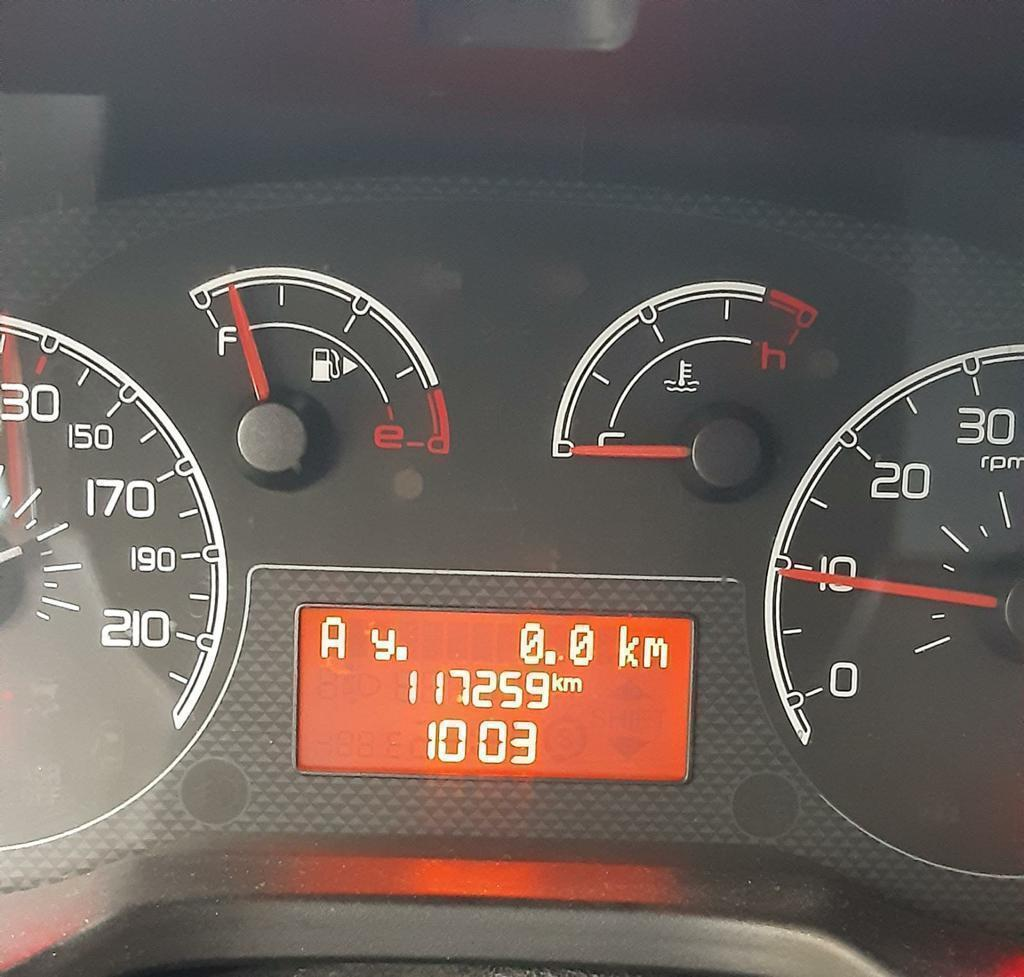,: (476, 716, 507, 766), (437, 715, 468, 765), (394, 642, 409, 663), (544, 646, 558, 668)
0: (566, 620, 596, 668), (516, 620, 544, 667)
1: (402, 665, 421, 707), (427, 665, 445, 708), (421, 717, 436, 763)
2: (472, 667, 496, 709)
3: (509, 719, 537, 767)
5: (498, 668, 523, 710)
7: (448, 665, 471, 708)
9: (525, 670, 549, 712)
X: (317, 613, 348, 662), (613, 621, 641, 671), (369, 623, 395, 663), (643, 633, 669, 671), (563, 673, 584, 694), (549, 669, 563, 694)
odometer: (287, 601, 700, 786)
